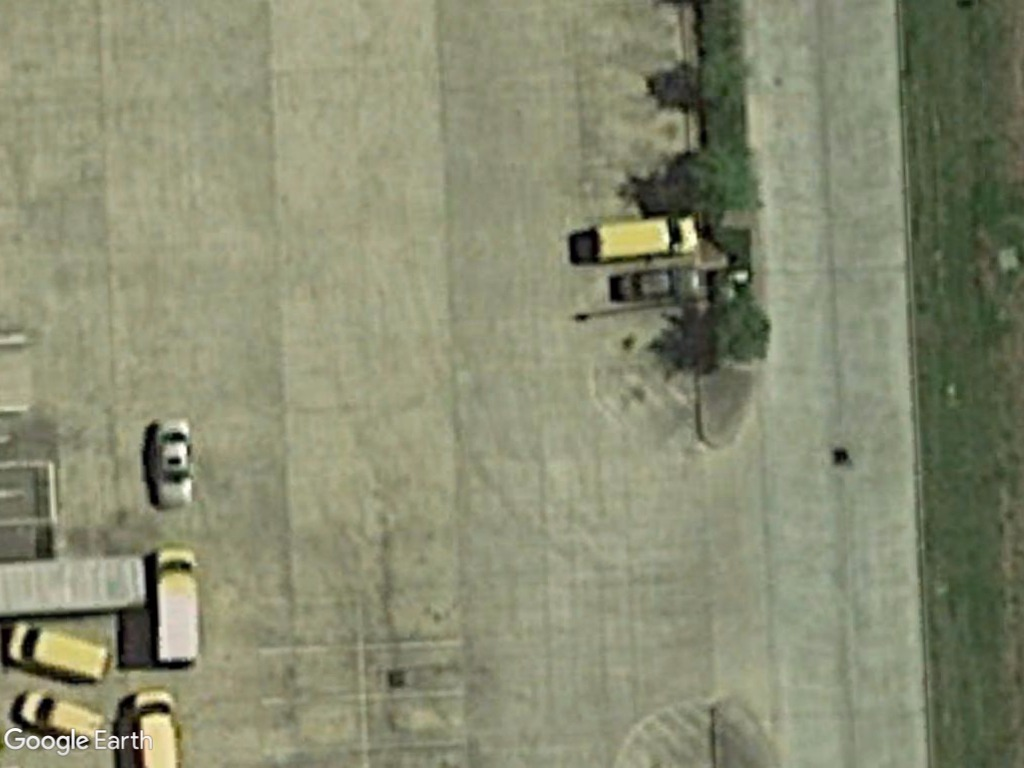car: (147, 416, 198, 515)
van: (144, 541, 206, 671), (2, 618, 109, 688), (584, 211, 701, 267), (14, 692, 113, 751)
